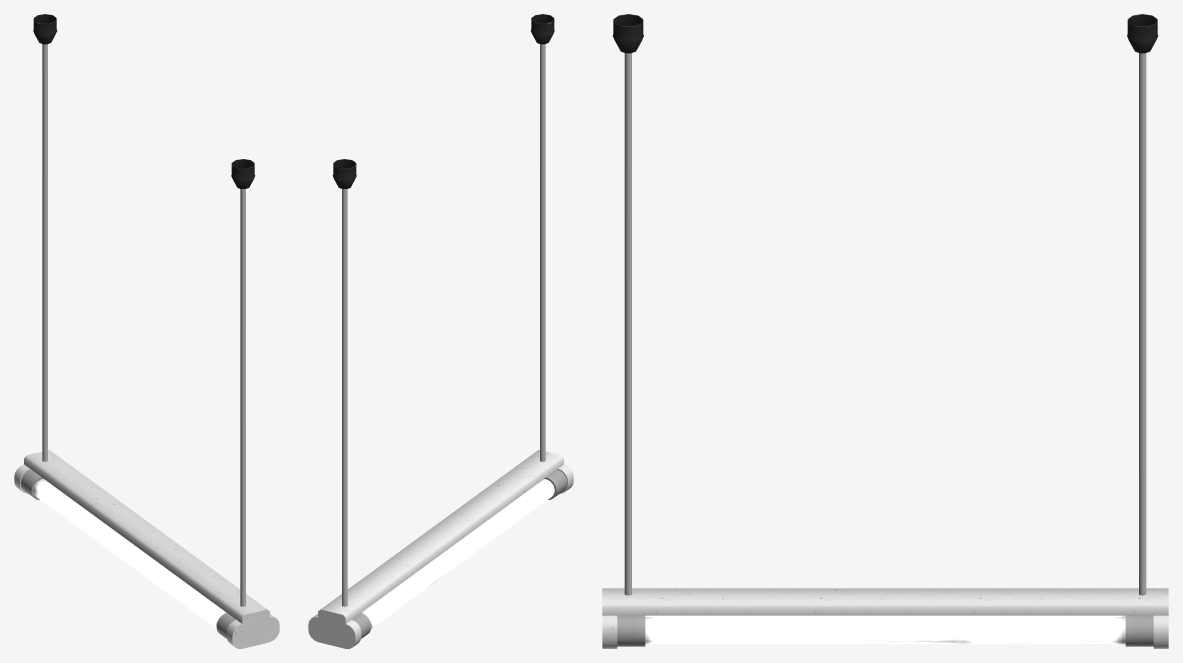
The model's file is SM_Lamp6.fbx.
3 renders of one model, left to right at view 1: azimuth 30°, elevation 25°; view 2: azimuth 150°, elevation 25°; view 3: azimuth 270°, elevation 25°, orthographic. The views are drawn at different scales.
Parts seen in each view (by area): view 1: SM_Lamp6_LOD0; view 2: SM_Lamp6_LOD0; view 3: SM_Lamp6_LOD0.
Boxes of the visible parts, bbox=[...] form: SM_Lamp6_LOD0: bbox=[14, 14, 279, 648]; SM_Lamp6_LOD0: bbox=[308, 14, 573, 648]; SM_Lamp6_LOD0: bbox=[602, 14, 1168, 648].
Bounding box in the file's own units: 19.9 × 159 × 190.
